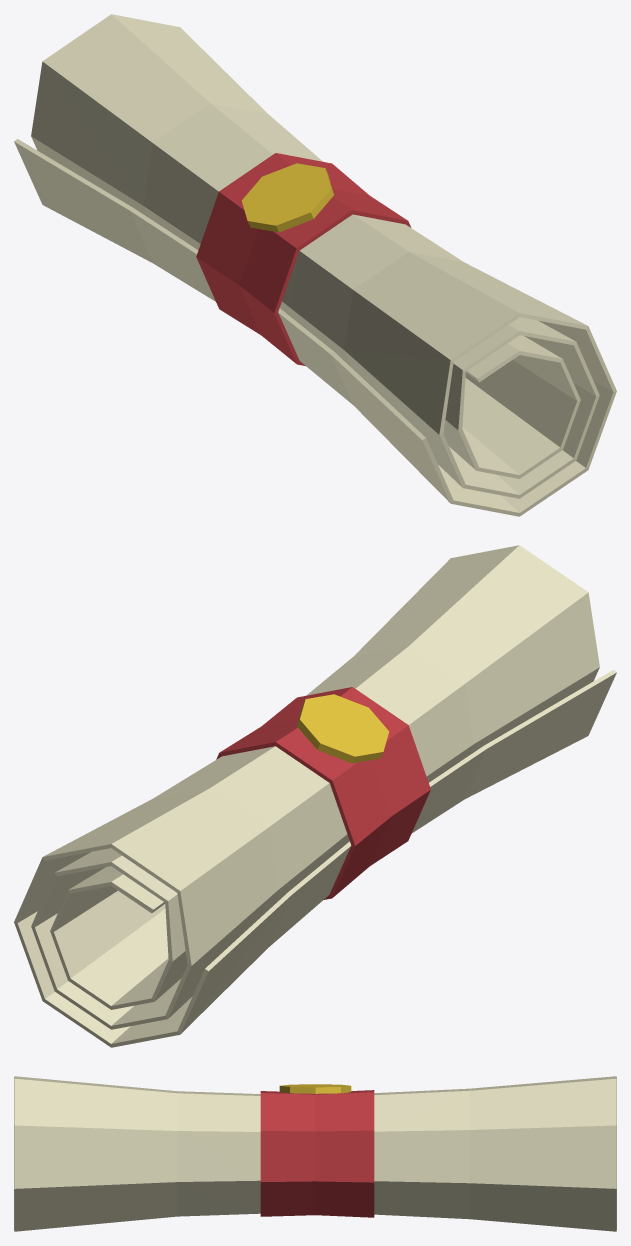
File: arIYNl9gMyr.glb
3 views of the same model, one above another, from view 1: azimuth 30°, elevation 25°; view 2: azimuth 150°, elevation 25°; view 3: azimuth 270°, elevation 25° (orthographic). The views are drawn at different scales.
Visible parts, largest first — view 1: Node; view 2: Node; view 3: Node.
Part boxes in pixels (x1,y1,x2,y2): Node: [14, 14, 616, 516]; Node: [14, 545, 616, 1047]; Node: [14, 1076, 616, 1231].
Size of the model in its own units: 1 by 1 by 3.63.
